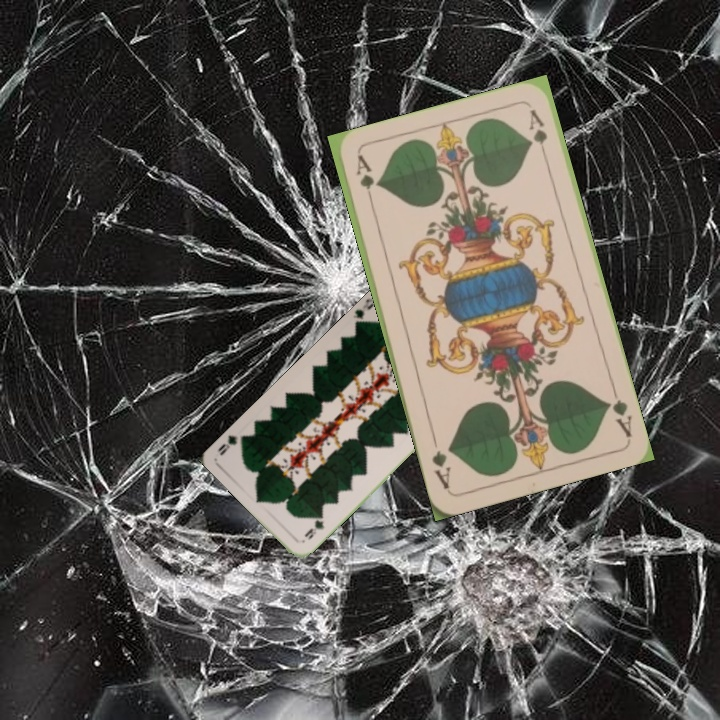G9: (349, 294, 378, 328), (300, 510, 327, 543)
GA: (601, 382, 635, 440), (351, 152, 377, 211)
